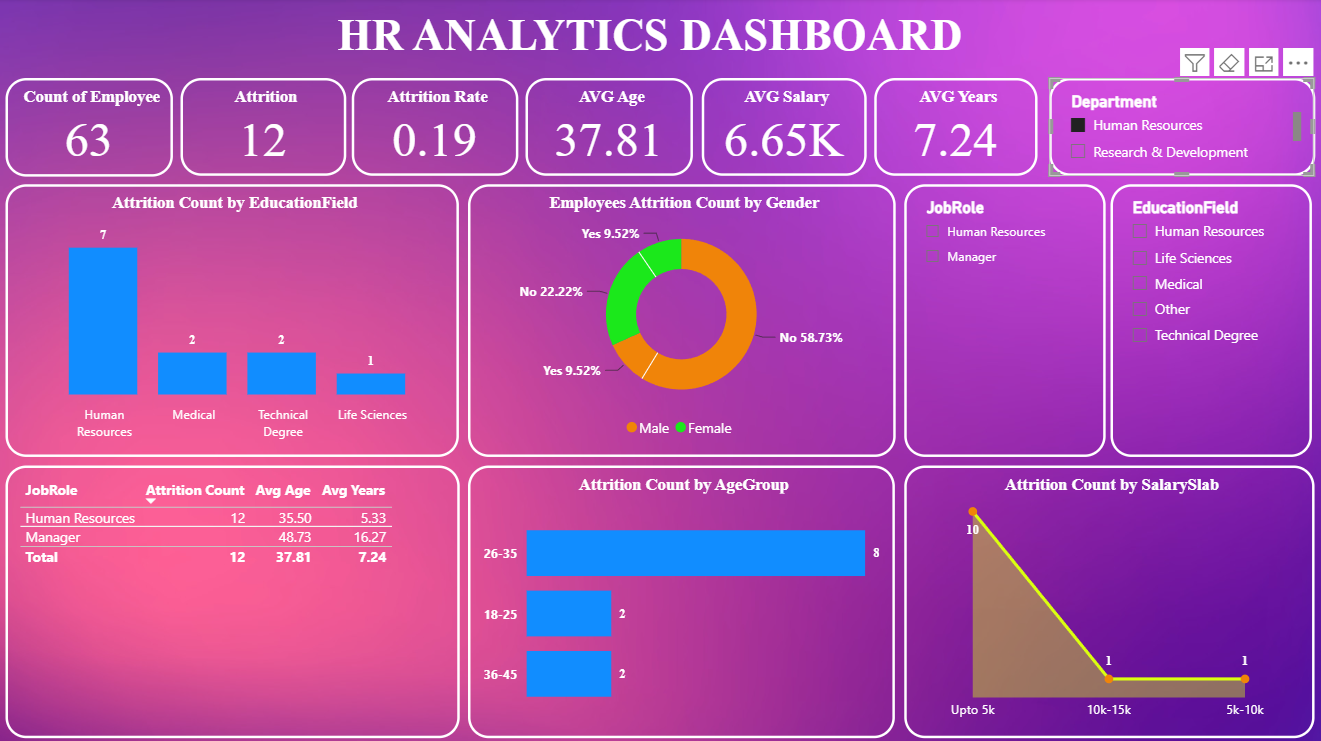

The dashboard page shown, as its layout file describes it:
{"tool":"powerbi","page":{"name":"Page 1","canvas":[1280,720],"ordinal":0},"visuals":[{"type":"textbox","box":[0,6.4,1258.2,62.7],"z":0},{"type":"card","title":"Count of  Employee","fields":{"Values":["HR_Analytics.Total Employees"]},"box":[6.7,76.7,161.7,95],"z":1000},{"type":"card","title":"Attrition","fields":{"Values":["HR_Analytics.Attrition Count"]},"box":[175.8,77.5,160,94.2],"z":2000},{"type":"card","title":"AVG Years","fields":{"Values":["HR_Analytics.Avg Years"]},"box":[845.8,77.5,157.5,94.2],"z":3000},{"type":"card","title":"AVG Salary","fields":{"Values":["HR_Analytics.Avg Salary"]},"box":[679.2,77.5,159.2,94.2],"z":4000},{"type":"card","title":"Attrition Rate","fields":{"Values":["HR_Analytics.Attrition Rate"]},"box":[341.7,77.5,160.8,94.2],"z":5000},{"type":"card","title":" AVG Age","fields":{"Values":["HR_Analytics.Avg Age"]},"box":[509.2,77.5,161.7,94.2],"z":6000},{"type":"columnChart","fields":{"Category":["HR_Analytics.EducationField"],"Y":["HR_Analytics.Attrition Count"]},"box":[6.7,180,437.5,263.3],"z":7000},{"type":"donutChart","title":"Employees Attrition Count by Gender","fields":{"Category":["HR_Analytics.Gender"],"Series":["HR_Analytics.Attrition"],"Y":["HR_Analytics.Total Employees"]},"box":[453.3,180,412.5,263.3],"z":8000},{"type":"clusteredBarChart","fields":{"Category":["HR_Analytics.AgeGroup"],"Y":["HR_Analytics.Attrition Count"]},"box":[454.2,450.8,411.7,263.3],"z":9000},{"type":"areaChart","fields":{"Category":["HR_Analytics.SalarySlab"],"Y":["HR_Analytics.Attrition Count"]},"box":[875,450.8,395.8,263.3],"z":10000},{"type":"tableEx","fields":{"Values":["HR_Analytics.JobRole","HR_Analytics.Attrition Count","HR_Analytics.Avg Age","HR_Analytics.Avg Years"]},"box":[7,451,438,263],"z":11000},{"type":"slicer","fields":{"Values":["HR_Analytics.Department"]},"box":[1014.2,77.5,256.7,94.2],"z":12000},{"type":"slicer","fields":{"Values":["HR_Analytics.JobRole"]},"box":[875,180,194.2,263.3],"z":13000},{"type":"slicer","fields":{"Values":["HR_Analytics.EducationField"]},"box":[1074.2,180,194.2,263.3],"z":14000}]}

Visuals, with their boxes in screenshot pixels (x1, y1, x2, y2), scaled from the page's 1280x720 canvas onto the 1321x741 screenshot:
textbox: <bbox>0, 7, 1299, 71</bbox>
"Count of  Employee" card: <bbox>7, 79, 174, 177</bbox>
"Attrition" card: <bbox>181, 80, 347, 177</bbox>
"AVG Years" card: <bbox>873, 80, 1035, 177</bbox>
"AVG Salary" card: <bbox>701, 80, 865, 177</bbox>
"Attrition Rate" card: <bbox>353, 80, 519, 177</bbox>
" AVG Age" card: <bbox>526, 80, 692, 177</bbox>
columnChart - HR_Analytics.EducationField x HR_Analytics.Attrition Count: <bbox>7, 185, 458, 456</bbox>
"Employees Attrition Count by Gender" donutChart: <bbox>468, 185, 894, 456</bbox>
clusteredBarChart - HR_Analytics.AgeGroup x HR_Analytics.Attrition Count: <bbox>469, 464, 894, 735</bbox>
areaChart - HR_Analytics.SalarySlab x HR_Analytics.Attrition Count: <bbox>903, 464, 1312, 735</bbox>
tableEx - HR_Analytics.JobRole x HR_Analytics.Attrition Count: <bbox>7, 464, 459, 735</bbox>
slicer - HR_Analytics.Department: <bbox>1047, 80, 1312, 177</bbox>
slicer - HR_Analytics.JobRole: <bbox>903, 185, 1103, 456</bbox>
slicer - HR_Analytics.EducationField: <bbox>1109, 185, 1309, 456</bbox>
